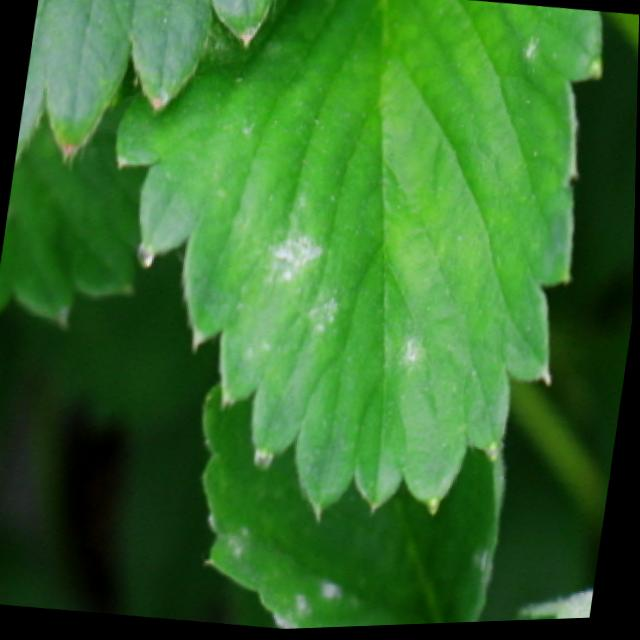Powdery Mildew Leaf: (113, 0, 602, 523), (201, 383, 508, 631)
